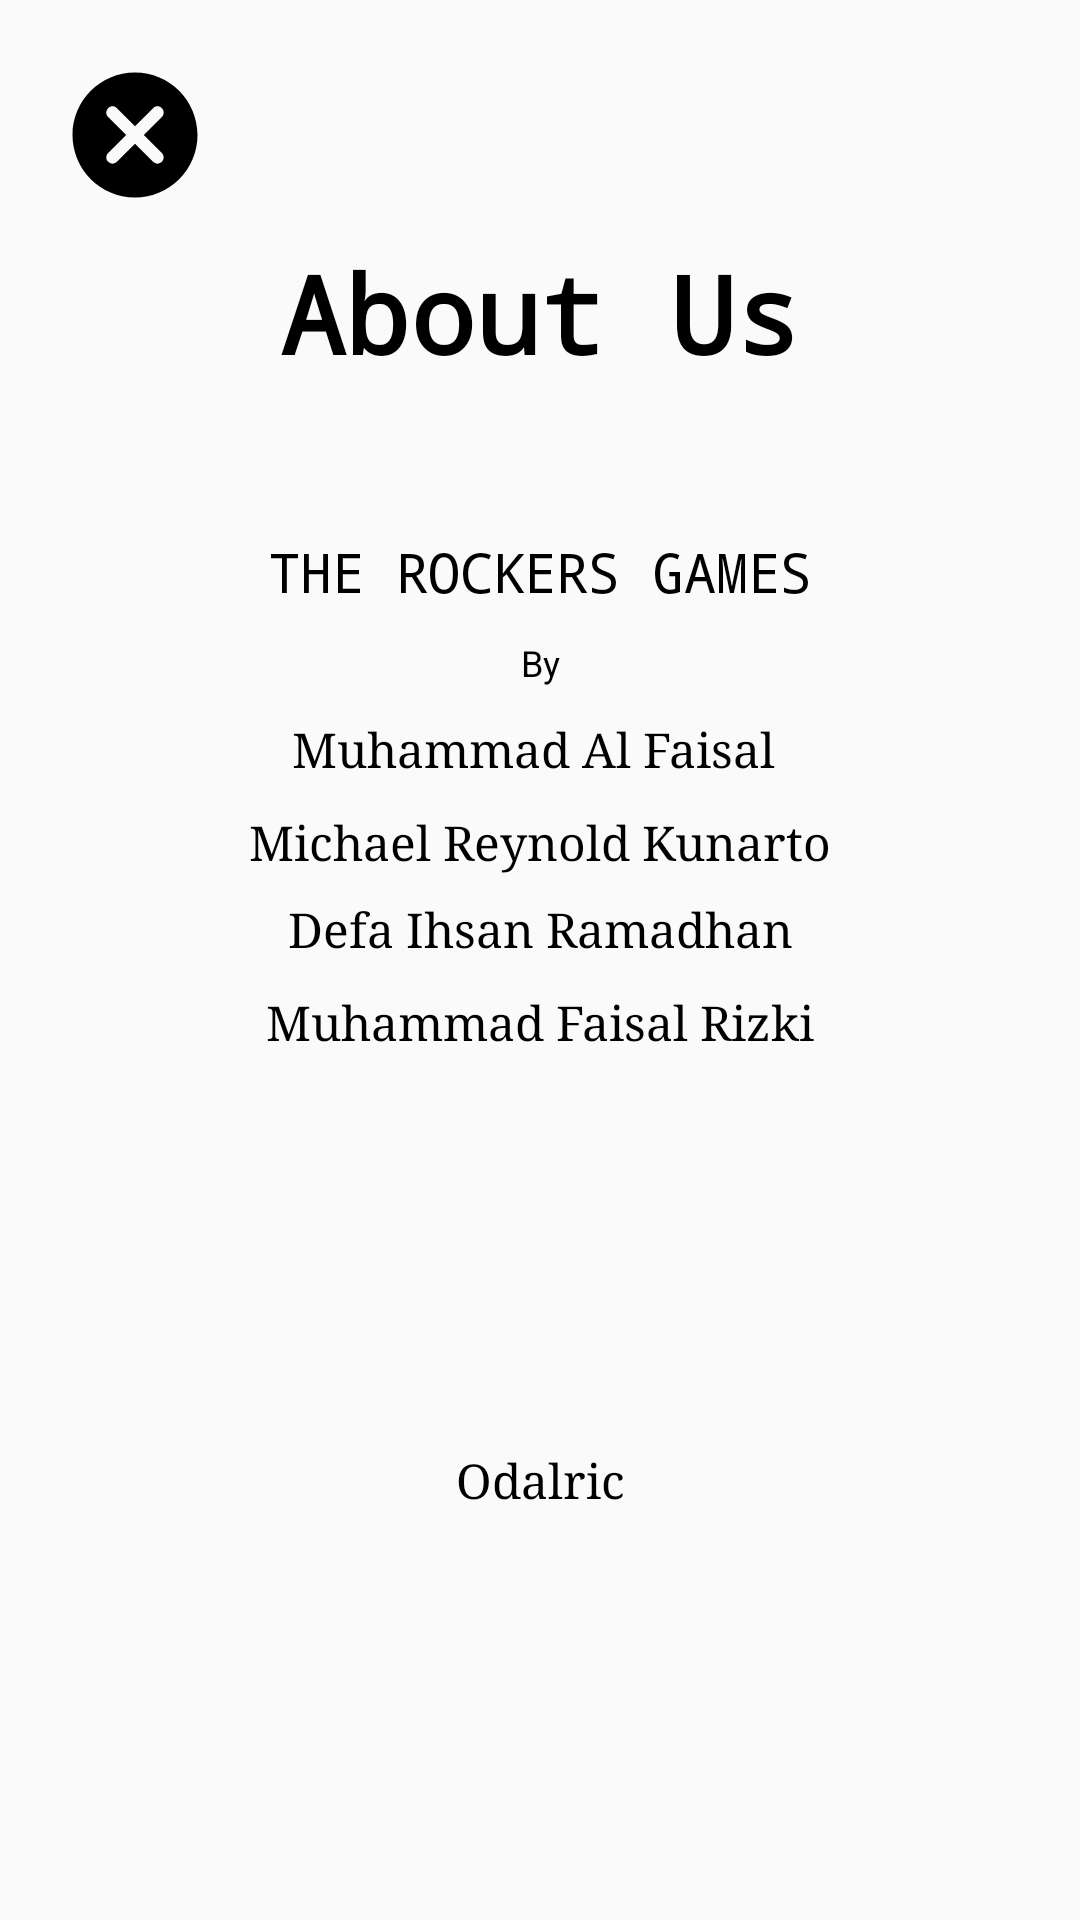

Screen size 1080w x 1920h. Icon name, then its center in pixels as (x=x, y=y):
close: (x=135, y=135)
